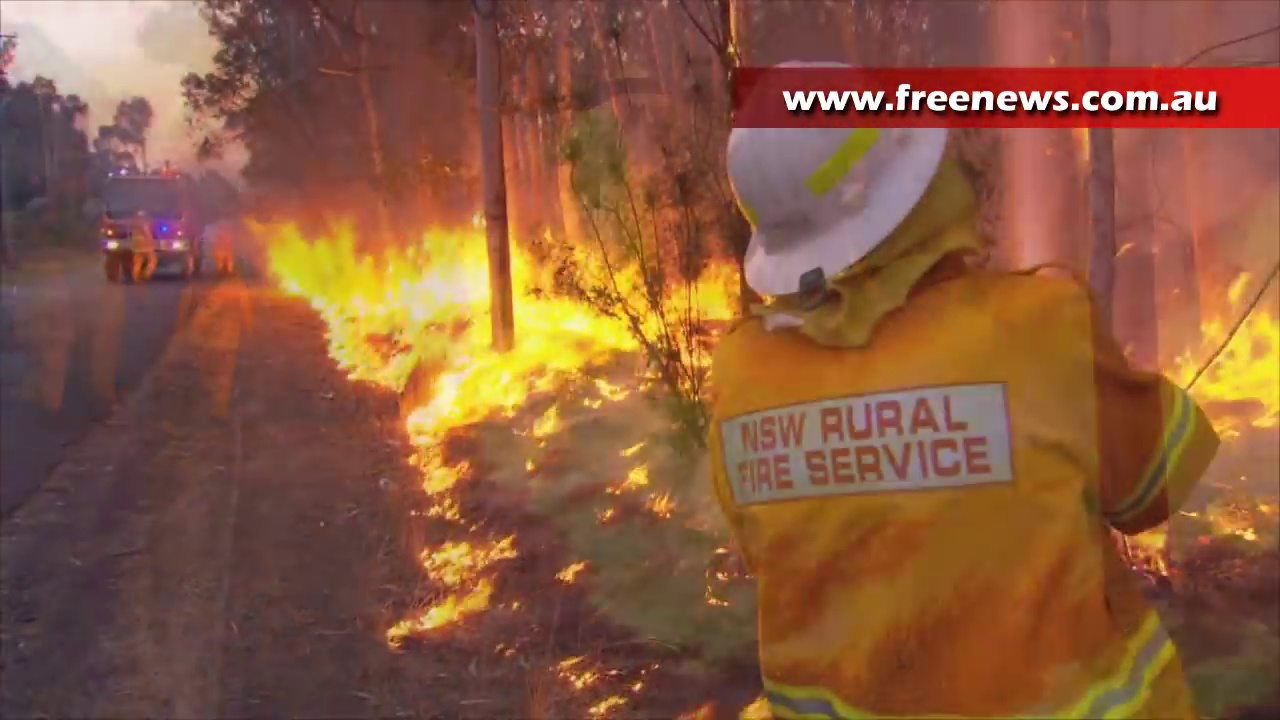fire: (314, 227, 716, 380), (1182, 274, 1280, 436), (407, 382, 517, 425), (421, 540, 491, 601), (413, 429, 458, 517), (564, 667, 597, 689), (536, 409, 558, 437), (592, 695, 615, 716), (625, 466, 649, 485)
